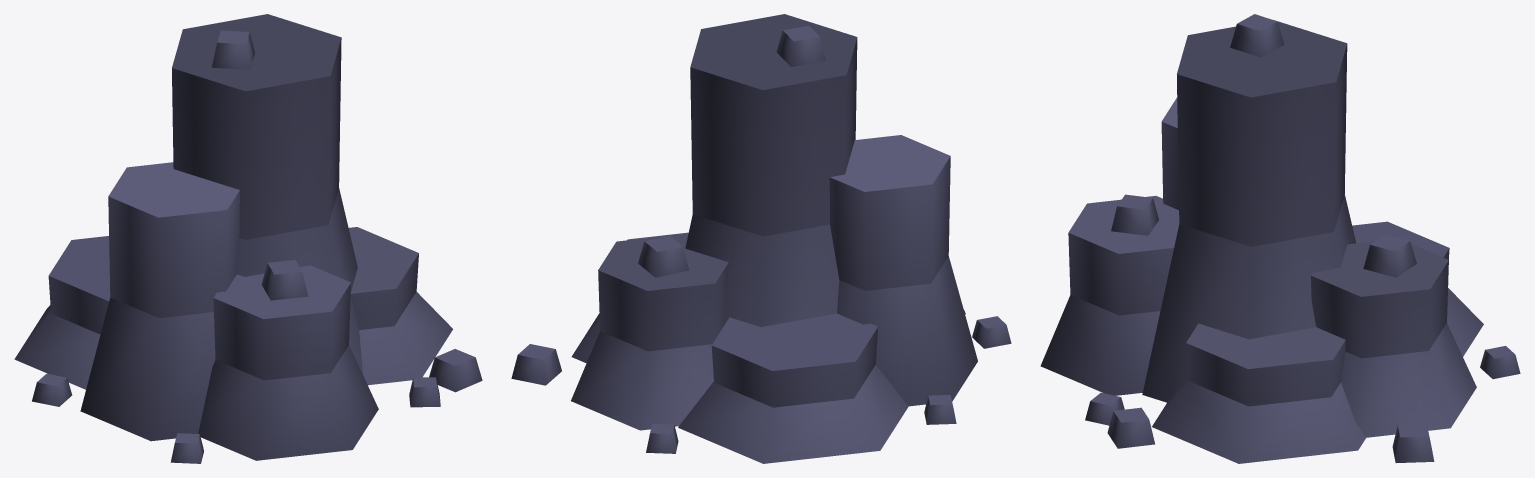
Rendered from rocks-b.fbx.
The picture shows the model from 3 angles, left to right: view 1: azimuth 30°, elevation 25°; view 2: azimuth 150°, elevation 25°; view 3: azimuth 270°, elevation 25°; orthographic projection. The views are drawn at different scales.
Parts seen in each view (by area): view 1: rocks-b; view 2: rocks-b; view 3: rocks-b.
Boxes of the visible parts, left/top/right/bottom form: rocks-b: left=14, top=14, right=482, bottom=463; rocks-b: left=511, top=14, right=1011, bottom=463; rocks-b: left=1040, top=14, right=1520, bottom=463.
Size of the model in its own units: 444 by 365 by 470.
